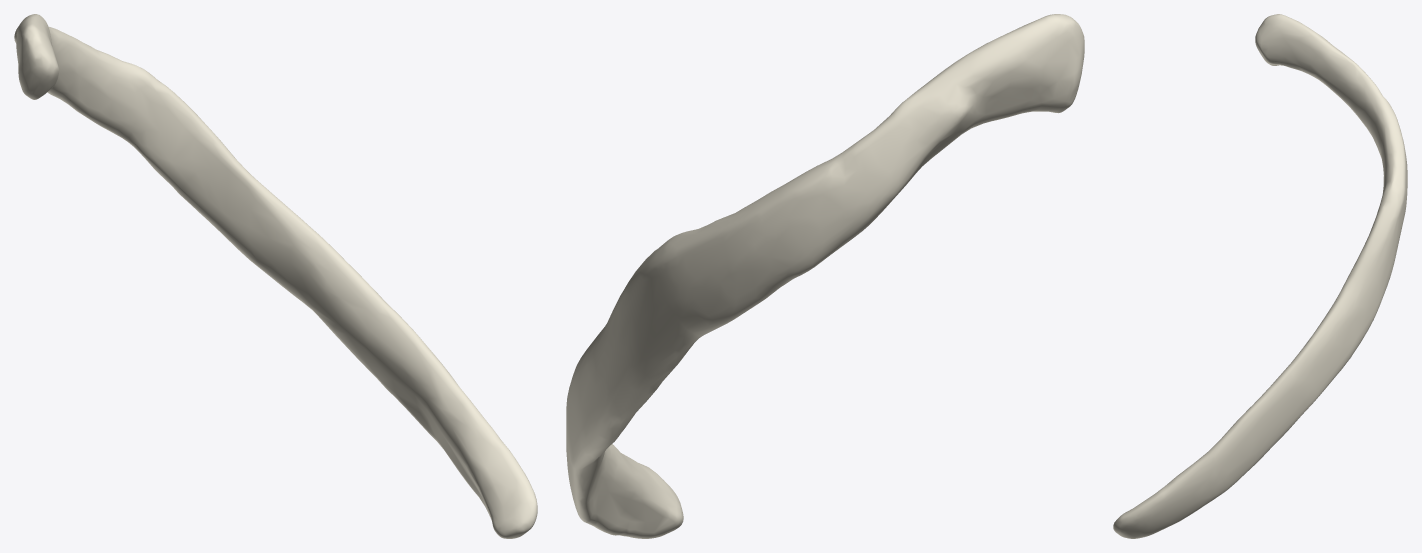
The model's file is fma8532_fj3226.glb.
3 views of the same model, side by side, from view 1: azimuth 30°, elevation 25°; view 2: azimuth 150°, elevation 25°; view 3: azimuth 270°, elevation 25° (orthographic). The views are drawn at different scales.
Visible parts, largest first — view 1: FMA8532_FJ3226; view 2: FMA8532_FJ3226; view 3: FMA8532_FJ3226.
Part boxes in pixels (bbox=[...]): FMA8532_FJ3226: bbox=[14, 14, 537, 538]; FMA8532_FJ3226: bbox=[566, 14, 1084, 538]; FMA8532_FJ3226: bbox=[1113, 14, 1407, 538].
Size of the model in its own units: 0.0938 by 0.1137 by 0.0781.
